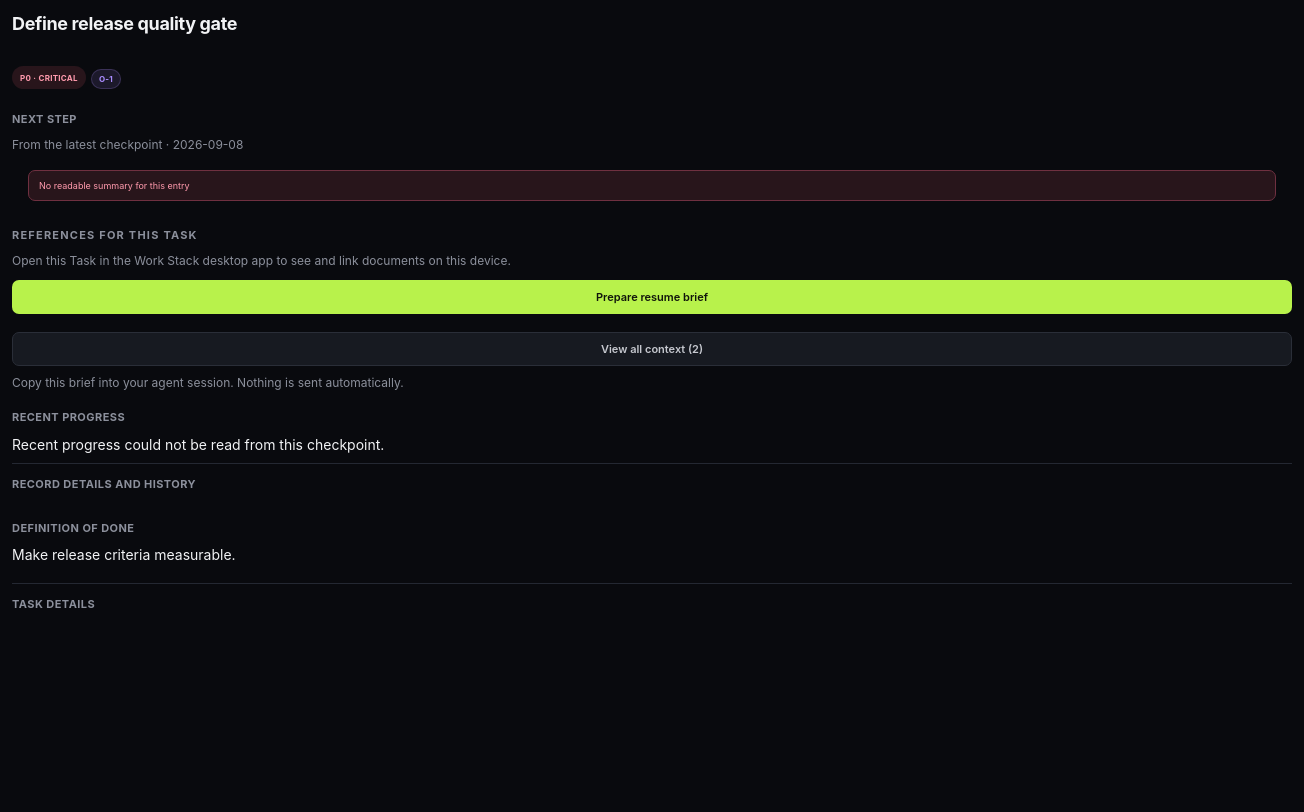
unreadable latest records stay explicit and expose extras in history
The width and height of the screenshot is (1304, 812).
Expected: the message reads "No readable summary for this entry", [39, 180, 190, 191]
Click the heading "Record details and history".
click(104, 484)  # box [12, 477, 196, 491]
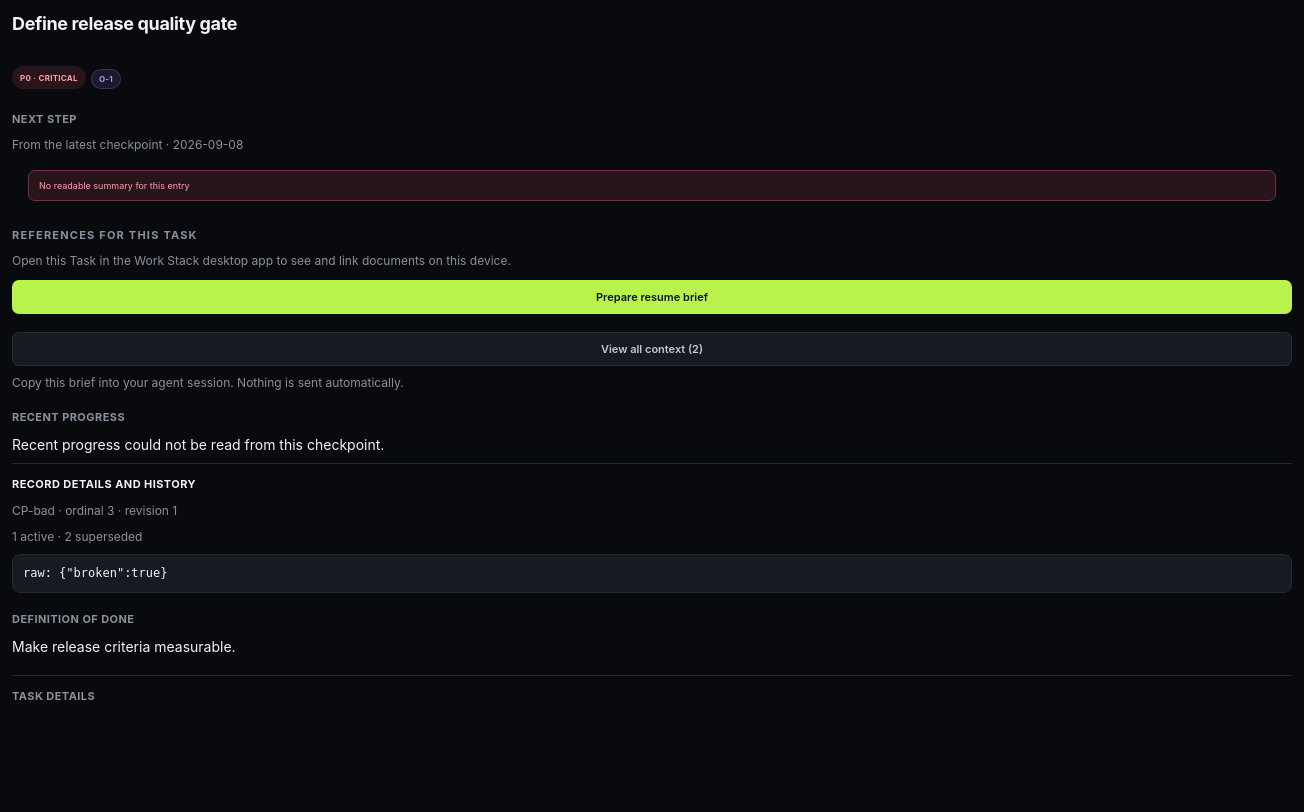
Now the text "CP-bad · ordinal 3 · revision 1" is shown, box [12, 503, 177, 518]
Now the text "1 active · 2 superseded" is shown, box [12, 529, 142, 544]
Now the text "raw: {\"broken\":true}" is shown, box [12, 554, 1292, 593]
